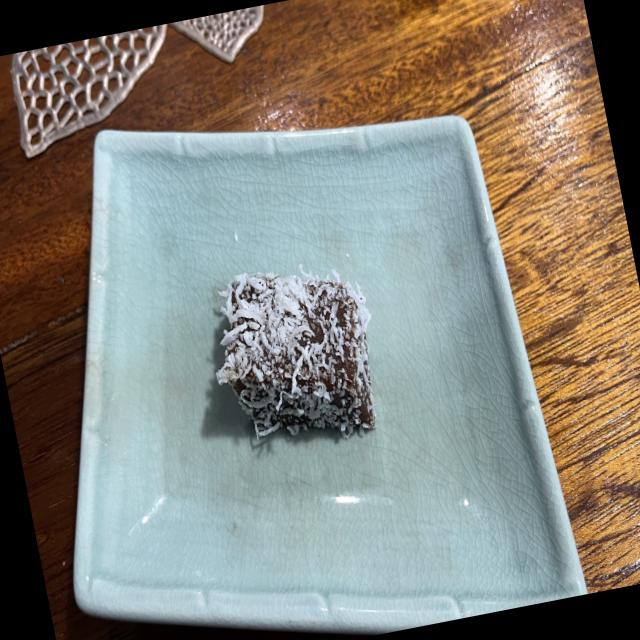kaswi: (216, 267, 376, 437)
